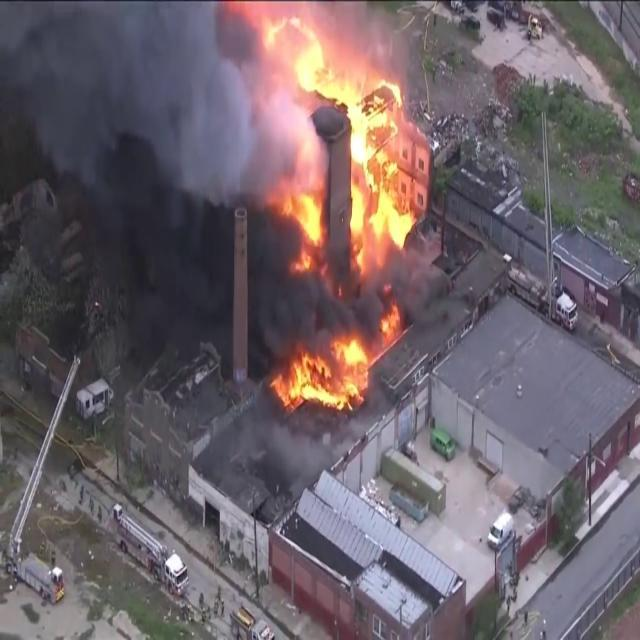Fire: (256, 3, 422, 343), (272, 330, 376, 412)
Smoke: (0, 2, 295, 212)
